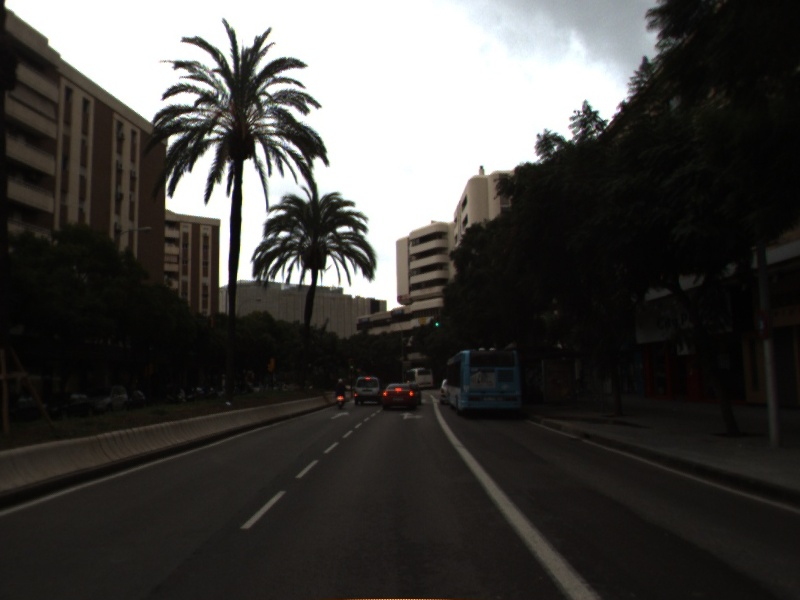STRAIGHT: (328, 410, 351, 421)
STRAIGHT_RIGHT: (398, 410, 424, 421)
